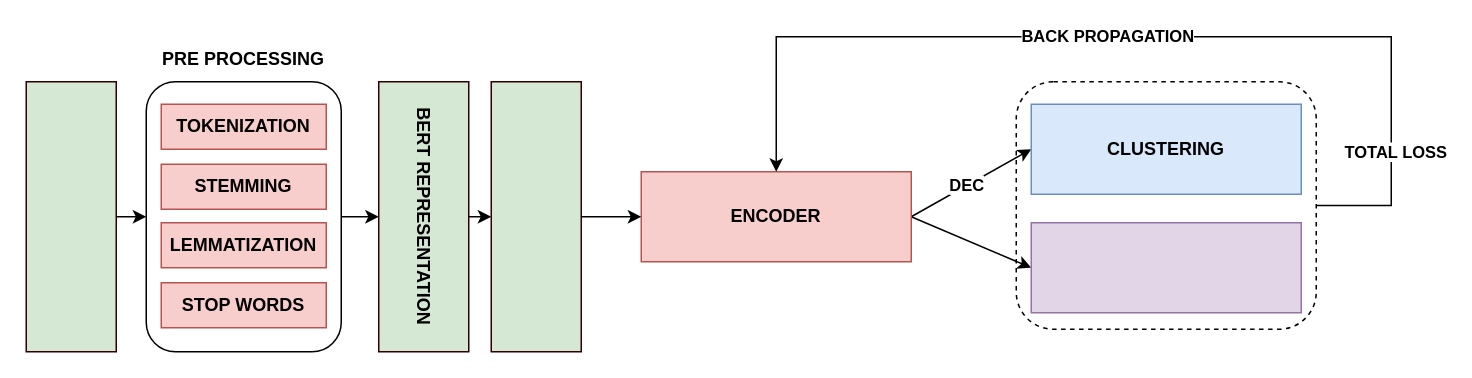
The diagram is 1472 pixels wide and 378 high, and some of its shapes have lost their labels. Each missing label, with the centre of its shape:
"BERT EMBEDDINGS" goes at (x=535, y=216).
"DATA" goes at (x=70, y=216).
"SENTIMENT MODEL" goes at (x=1165, y=267).
